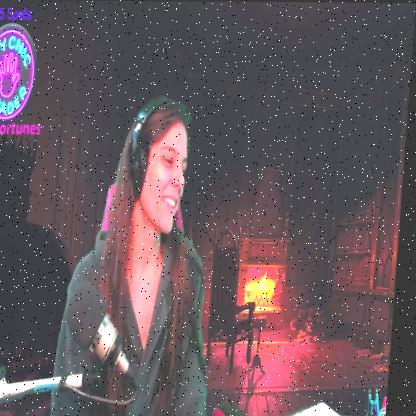streamer: (55, 92, 233, 416)
